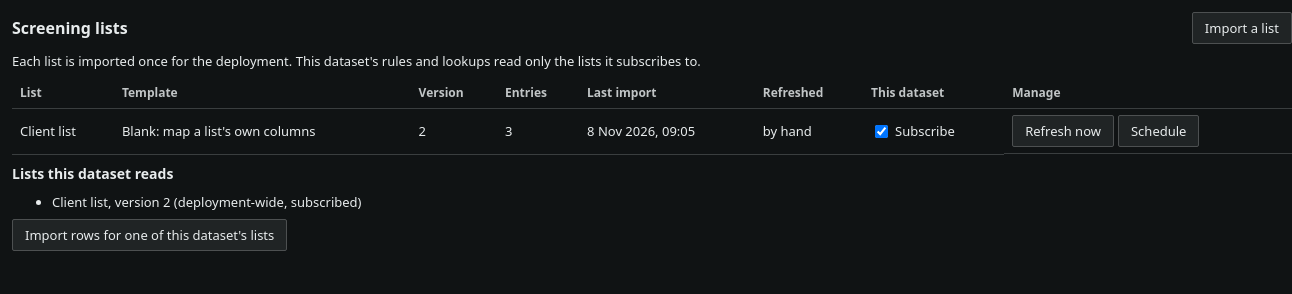
the screening lists › refreshes a list now for whoever may load lists, saying what the import did
Click the button with aria-label "Refresh now: Client list" at (1063, 131), box [1012,115,1114,147]
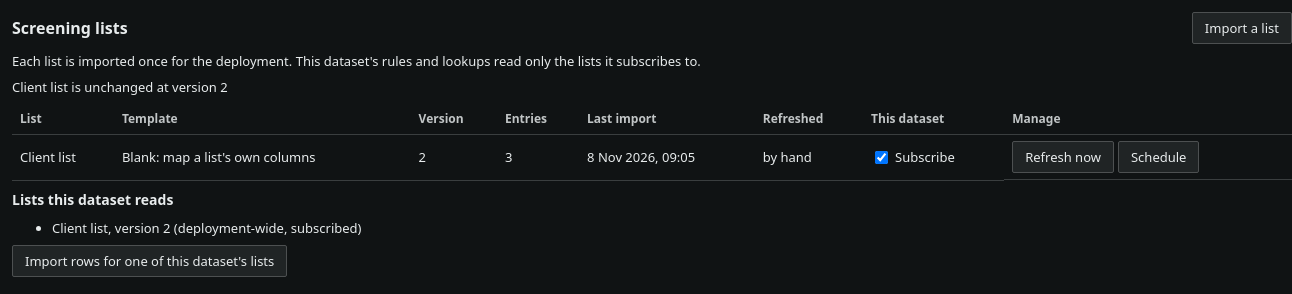
Expected: the list item "Client list, version 2 (deployment-wide, subscribed)" is shown, [52,218,362,236]
Expected: the message reads "Client list is unchanged at version 2", [12,78,228,96]
